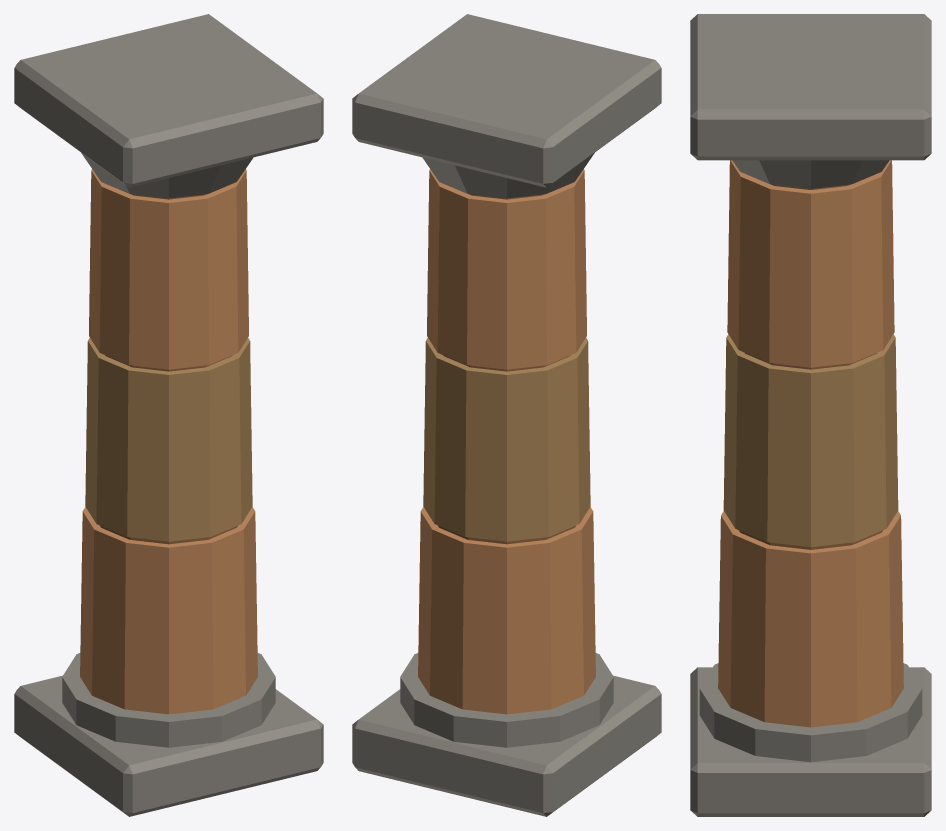
Rendered from SM_ProvPillar.fbx.
The picture shows the model from 3 angles, left to right: view 1: azimuth 30°, elevation 25°; view 2: azimuth 150°, elevation 25°; view 3: azimuth 270°, elevation 25°; orthographic projection. The views are drawn at different scales.
Parts seen in each view (by area): view 1: SM_ProvPillar; view 2: SM_ProvPillar; view 3: SM_ProvPillar.
Boxes of the visible parts, <box> form: SM_ProvPillar: <box>14,14,323,816</box>; SM_ProvPillar: <box>352,14,661,816</box>; SM_ProvPillar: <box>690,14,931,816</box>.
Size of the model in its own units: 1.3 by 1.3 by 4.2.
